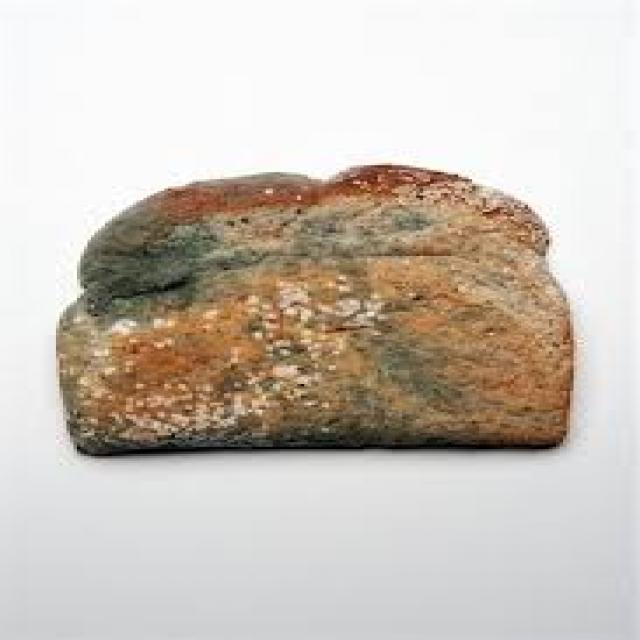organic waste: (52, 163, 574, 454)
